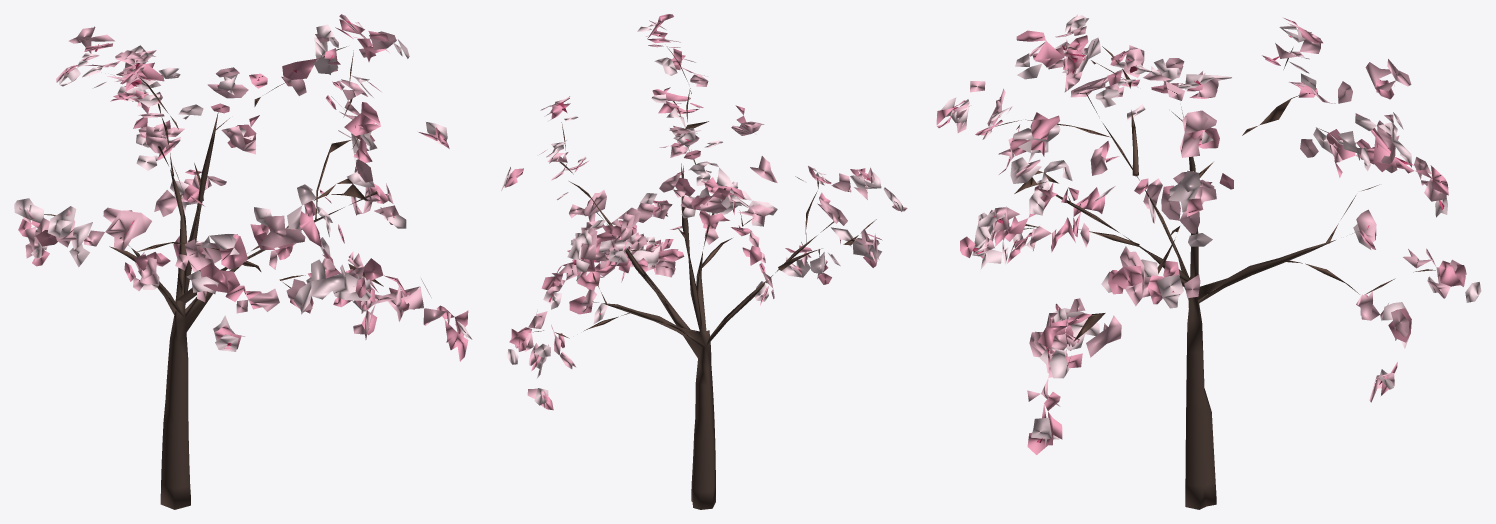
3 renders of one model, left to right at view 1: azimuth 30°, elevation 25°; view 2: azimuth 150°, elevation 25°; view 3: azimuth 270°, elevation 25°, orthographic. The views are drawn at different scales.
Visible parts, largest first — view 1: body; view 2: body; view 3: body.
Boxes of the visible parts, x1,y1,x2,y2 form: body: (14, 14, 472, 509); body: (501, 14, 907, 509); body: (936, 14, 1481, 509).
Bounding box in the file's own units: 2.06 × 2.23 × 2.06.
Materials: 1 (1 with a texture image).
